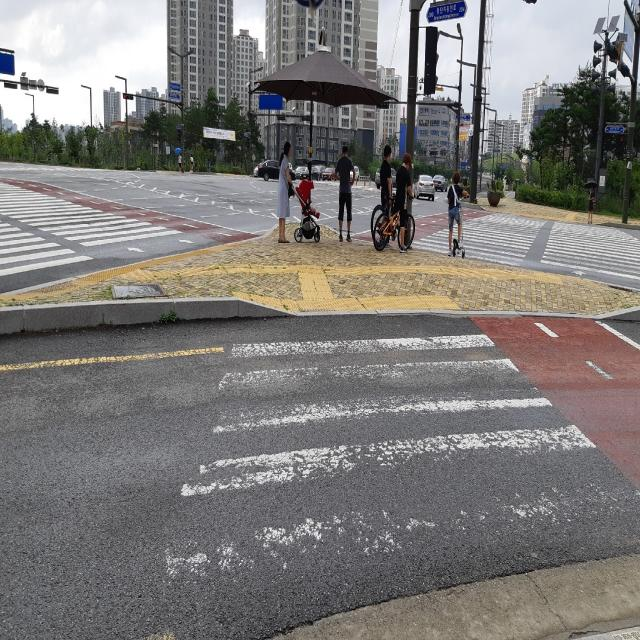횡단보도: (163, 332, 640, 586), (415, 195, 640, 282), (0, 175, 167, 283)
